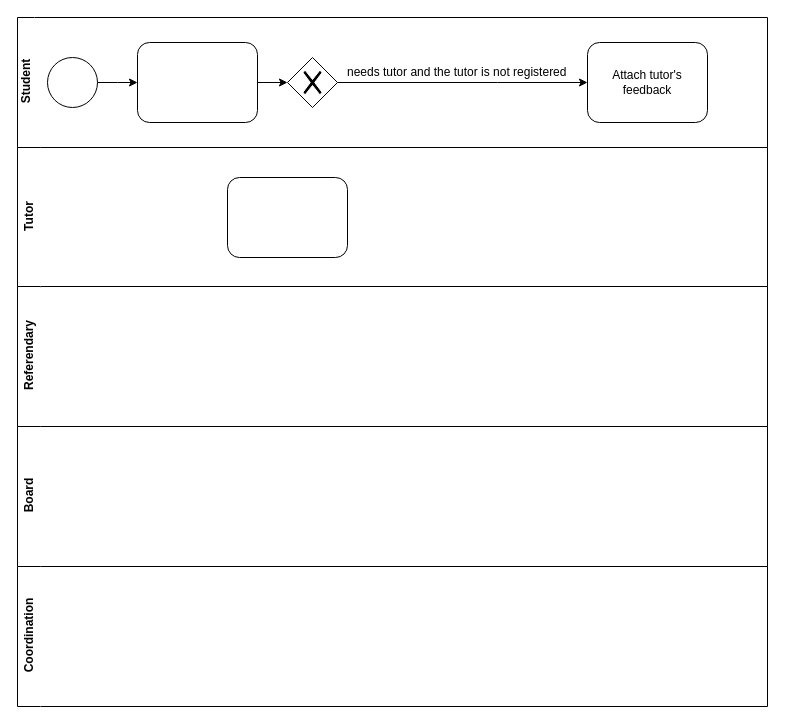
Image size: 785x724. Some labels were removed from this diagram. The shapes that lost their labels are listed below. From the top down, each one's centre as x and y in pixels, then its label:
At (x=72, y=82): "Start".
At (x=197, y=82): "Student requests use of the activity".
At (x=287, y=217): "T utor evaluates the activity".
